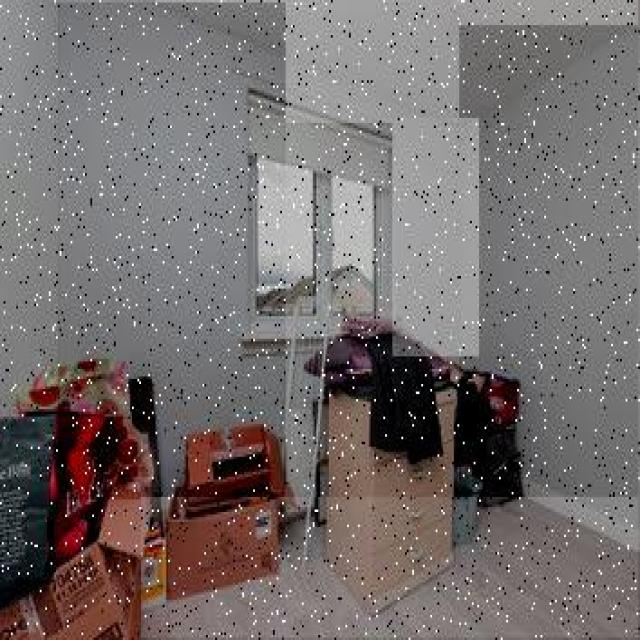Wall: (58, 3, 286, 499), (460, 27, 640, 527), (142, 499, 638, 637), (157, 1, 640, 122), (0, 0, 58, 407), (393, 120, 479, 356)
